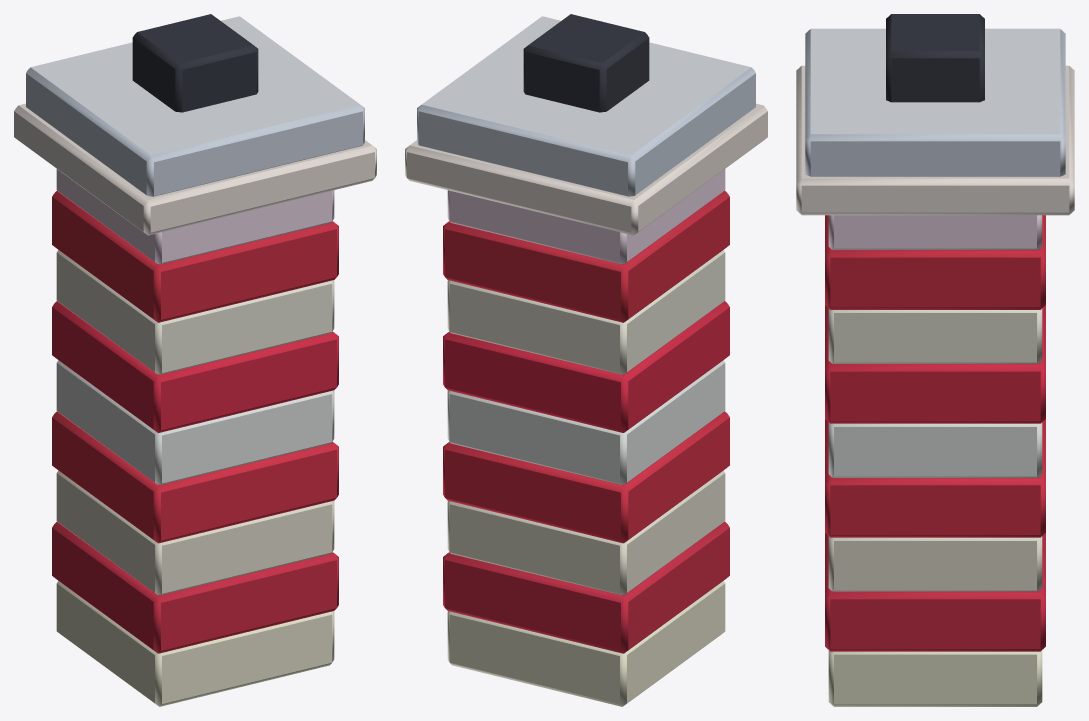
File: CandyHouse_Bungalow_Chimney.glb
3 renders of one model, left to right at view 1: azimuth 30°, elevation 25°; view 2: azimuth 150°, elevation 25°; view 3: azimuth 270°, elevation 25°, orthographic. The views are drawn at different scales.
Visible parts, largest first — view 1: CandyHouse_Bungalow_Chimney; view 2: CandyHouse_Bungalow_Chimney; view 3: CandyHouse_Bungalow_Chimney.
Boxes of the visible parts, x1=… form: CandyHouse_Bungalow_Chimney: x1=14, y1=14, x2=376, y2=706; CandyHouse_Bungalow_Chimney: x1=405, y1=14, x2=767, y2=706; CandyHouse_Bungalow_Chimney: x1=796, y1=14, x2=1074, y2=706.
Bounding box in the file's own units: 3.1 × 7.76 × 3.1.
